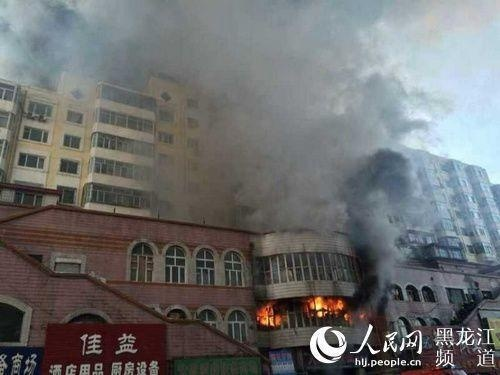fire: (307, 294, 348, 317), (256, 302, 283, 327)
